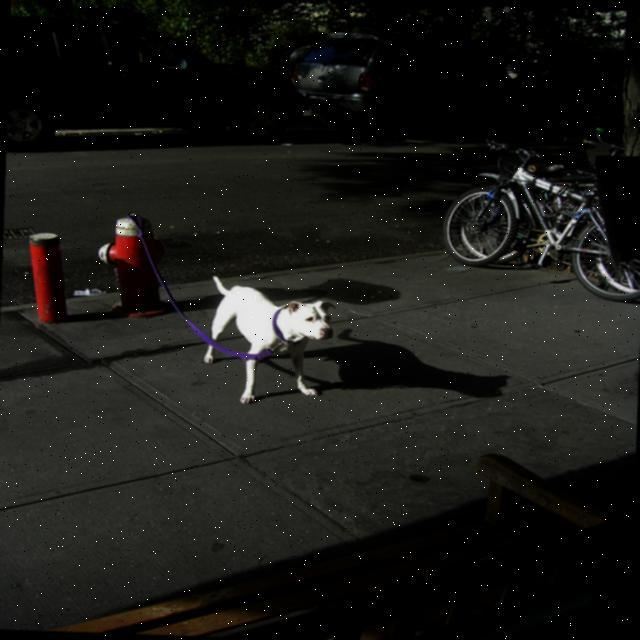fire_hydrant: (96, 212, 170, 316)
